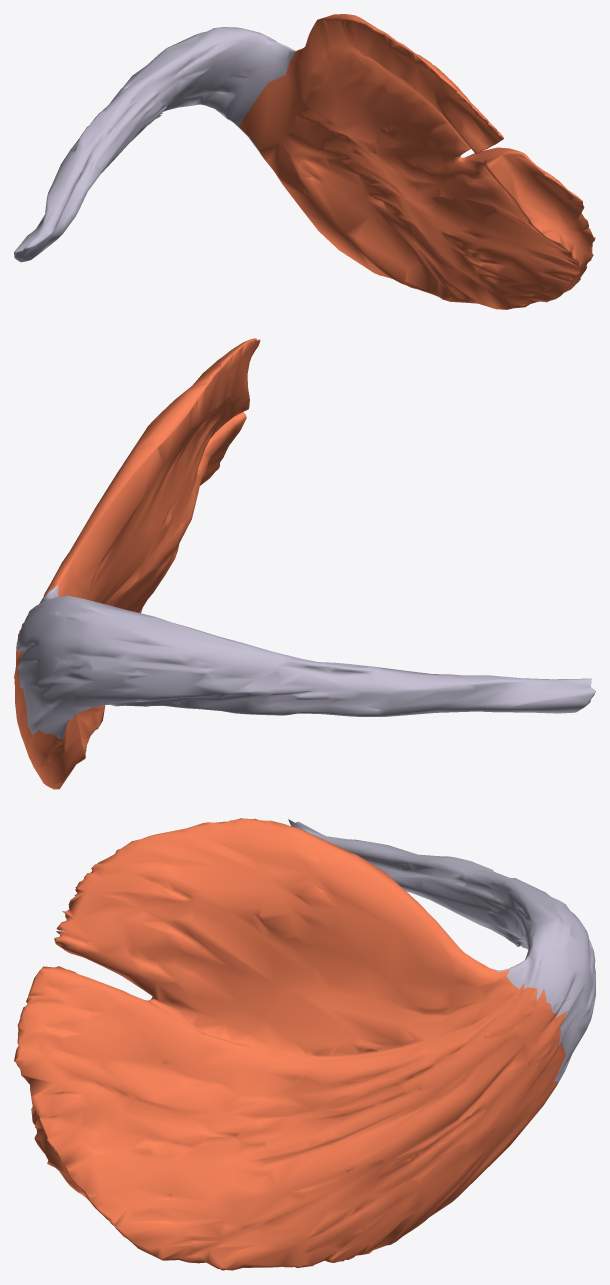
Rendered from Obturator_internus.r_Generated_Mesh_From_X3D.323.glb.
The picture shows the model from 3 angles, top to bottom: view 1: azimuth 30°, elevation 25°; view 2: azimuth 150°, elevation 25°; view 3: azimuth 270°, elevation 25°; orthographic projection. The views are drawn at different scales.
Parts seen in each view (by area): view 1: Obturator_internus.r_Generated_Mesh_From_X3D.323; view 2: Obturator_internus.r_Generated_Mesh_From_X3D.323; view 3: Obturator_internus.r_Generated_Mesh_From_X3D.323.
Part boxes in pixels (left/top/right/bottom): Obturator_internus.r_Generated_Mesh_From_X3D.323: left=14, top=14, right=595, bottom=309; Obturator_internus.r_Generated_Mesh_From_X3D.323: left=14, top=338, right=595, bottom=789; Obturator_internus.r_Generated_Mesh_From_X3D.323: left=14, top=818, right=595, bottom=1270.
Bounding box in the file's own units: 0.0976 × 0.0598 × 0.0817.
